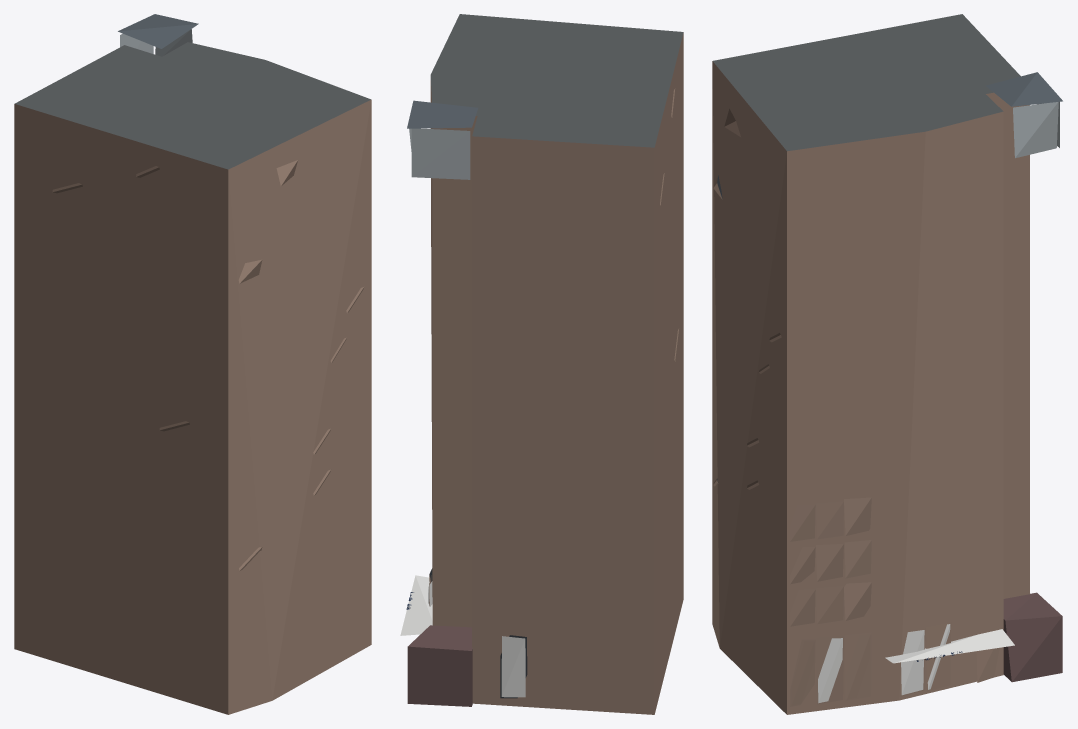
Rendered from wilhelminatoren.lod2.glb.
3 views of the same model, side by side, from view 1: azimuth 30°, elevation 25°; view 2: azimuth 150°, elevation 25°; view 3: azimuth 270°, elevation 25° (orthographic). The views are drawn at different scales.
Parts seen in each view (by area): view 1: lod2; view 2: lod2; view 3: lod2.
Boxes of the visible parts, <box> form: lod2: <box>14,14,371,714</box>; lod2: <box>400,14,683,714</box>; lod2: <box>712,14,1062,714</box>.
Bounding box in the file's own units: 21.77 × 42.5 × 23.48.
